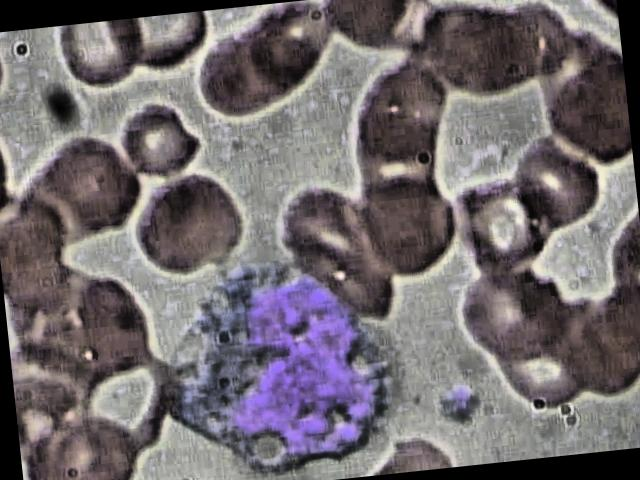Platelets: (438, 377, 486, 429)
RBC: (347, 162, 466, 283), (456, 252, 566, 366), (38, 132, 148, 244), (426, 0, 543, 104), (126, 176, 230, 284), (493, 313, 598, 417), (508, 128, 608, 237), (19, 399, 145, 480), (64, 264, 156, 370), (66, 261, 158, 367), (190, 28, 284, 122), (110, 94, 202, 182), (57, 18, 149, 96), (122, 11, 216, 79)
WBC: (151, 252, 404, 480)
